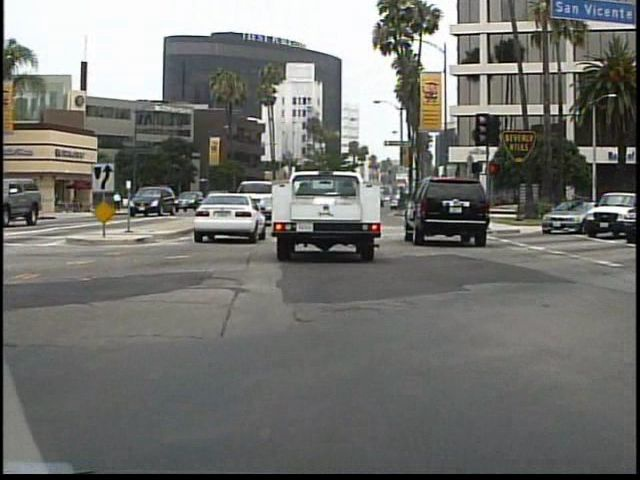person: (107, 189, 126, 223)
